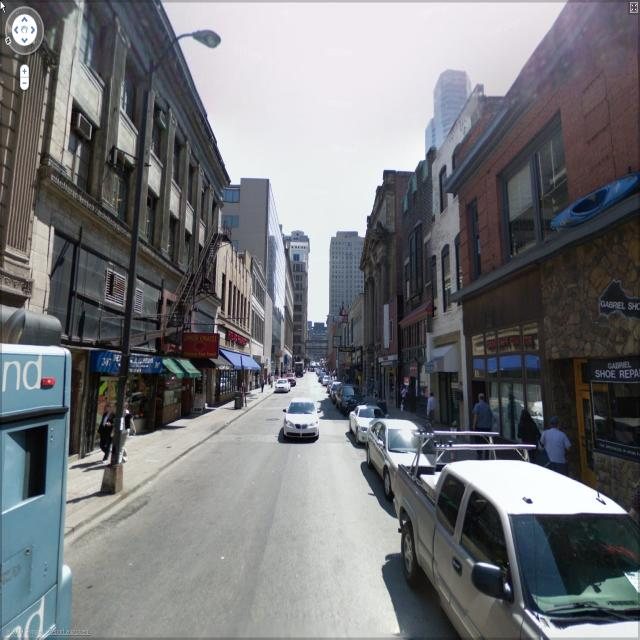b_1: (470, 11, 640, 430), (1, 13, 201, 363), (431, 104, 497, 449), (356, 177, 409, 410), (400, 157, 442, 405), (404, 62, 484, 158), (202, 255, 250, 374), (326, 227, 374, 325), (323, 300, 372, 380), (241, 271, 265, 378)
